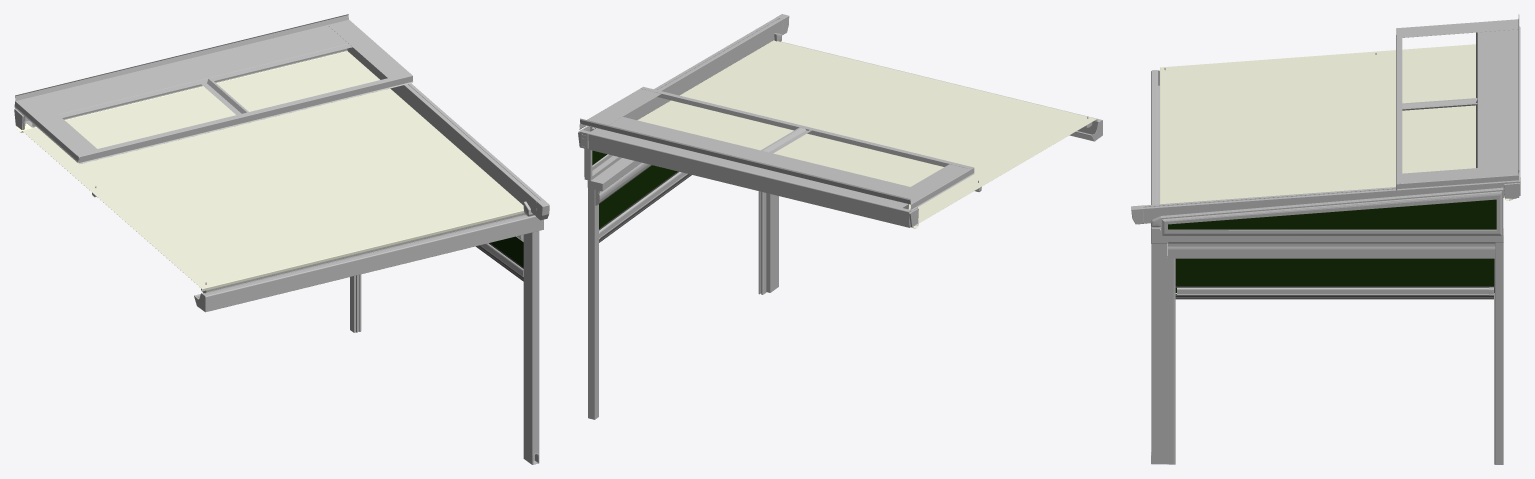
The model's file is flag5.fbx.
The picture shows the model from 3 angles, left to right: view 1: azimuth 30°, elevation 25°; view 2: azimuth 150°, elevation 25°; view 3: azimuth 270°, elevation 25°; orthographic projection. The views are drawn at different scales.
Visible parts, largest first — view 1: Telo, Tettuccio, Trave, Montante, Guida, Skipper, Trave_Posteriore, Frangivento_Iniziale_Finale; view 2: Telo, Tettuccio, Trave_Posteriore, Skipper, Guida, Pilastrino_intermedio, Montante, Trave_Laterale, Trave, Timpano; view 3: Telo, Skipper, Timpano, Tettuccio, Guida, Montante, Trave_Laterale, Pilastrino_intermedio, Trave.
Boxes of the visible parts, box(x1,y1,x2,y2) form: Telo: box(16, 50, 524, 291); Tettuccio: box(14, 14, 412, 164); Trave: box(194, 214, 543, 312); Montante: box(523, 231, 539, 464); Guida: box(347, 47, 549, 220); Skipper: box(356, 234, 523, 332); Trave_Posteriore: box(14, 48, 347, 129); Frangivento_Iniziale_Finale: box(201, 213, 525, 293); Telo: box(637, 40, 1097, 228); Tettuccio: box(579, 86, 974, 210); Trave_Posteriore: box(579, 126, 918, 227); Skipper: box(595, 162, 766, 294); Guida: box(585, 14, 789, 131); Pilastrino_intermedio: box(588, 188, 598, 419); Montante: box(766, 193, 778, 292); Trave_Laterale: box(587, 158, 641, 191); Trave: box(781, 41, 1102, 141); Timpano: box(584, 148, 621, 180); Telo: box(1160, 44, 1513, 204); Skipper: box(1167, 242, 1495, 464); Timpano: box(1161, 187, 1503, 236); Tettuccio: box(1396, 14, 1519, 190); Guida: box(1131, 182, 1504, 224); Montante: box(1151, 244, 1167, 464); Trave_Laterale: box(1168, 228, 1503, 242); Pilastrino_intermedio: box(1495, 242, 1503, 464); Trave: box(1151, 70, 1172, 243).
Bounding box in the file's own units: 307 × 265 × 317.
